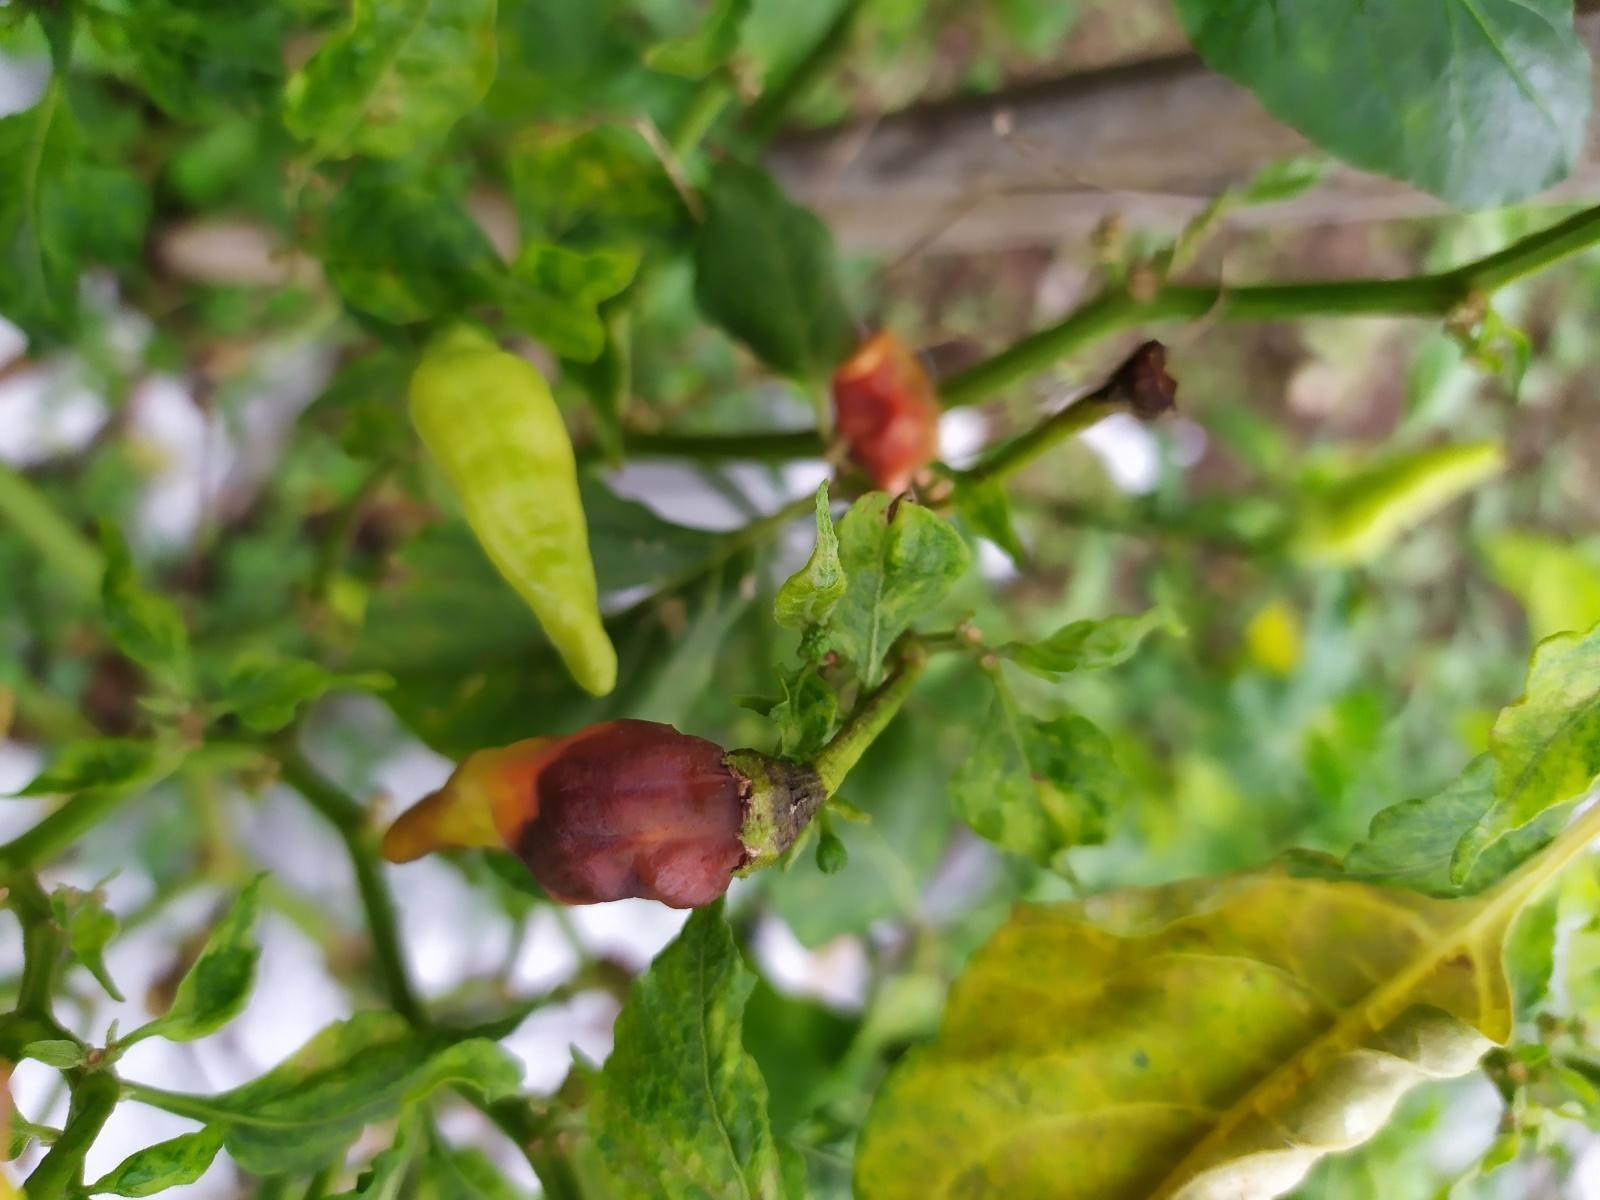cabai_normal: (404, 319, 617, 700)
lalat_buah: (379, 715, 751, 910), (831, 330, 946, 498)
